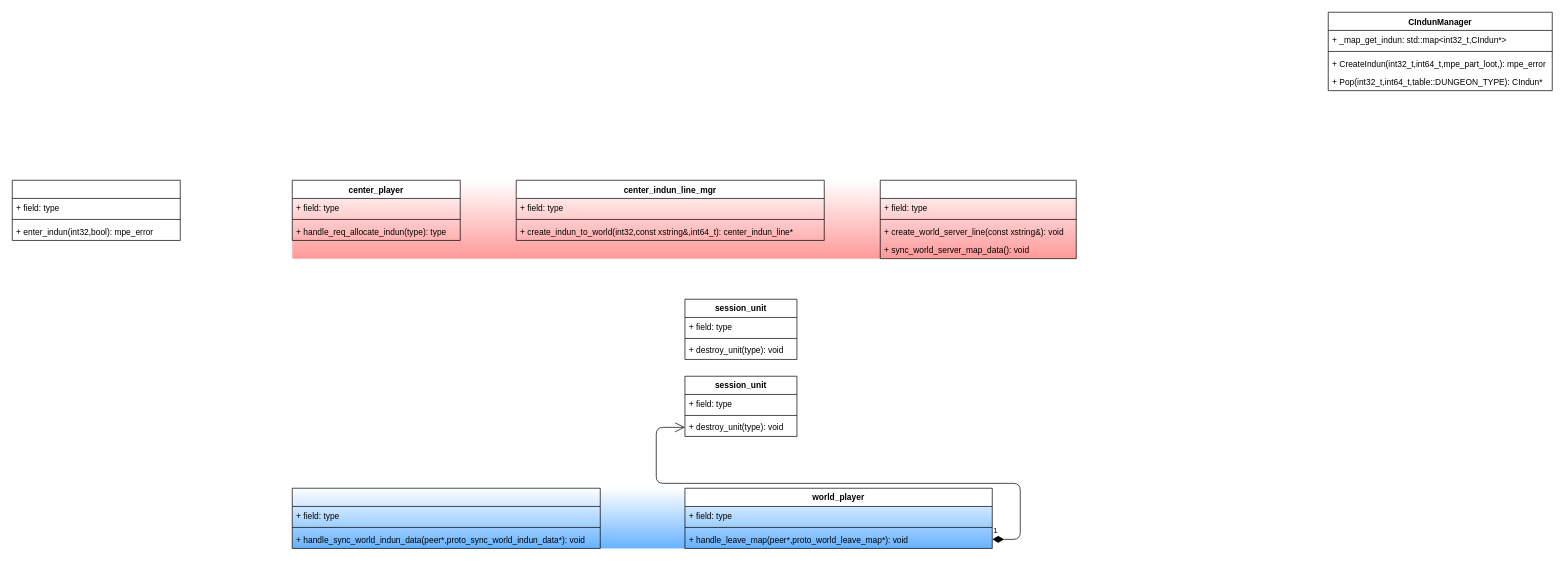
Some shapes in this 1565 by 564 pixel diagram are drawn without their labels. Each missing label, with the box of its shape:
center_indun_line: (880, 180, 1076, 259)
player_indun_system: (12, 180, 180, 240)
world_indun_line: (292, 488, 600, 548)
